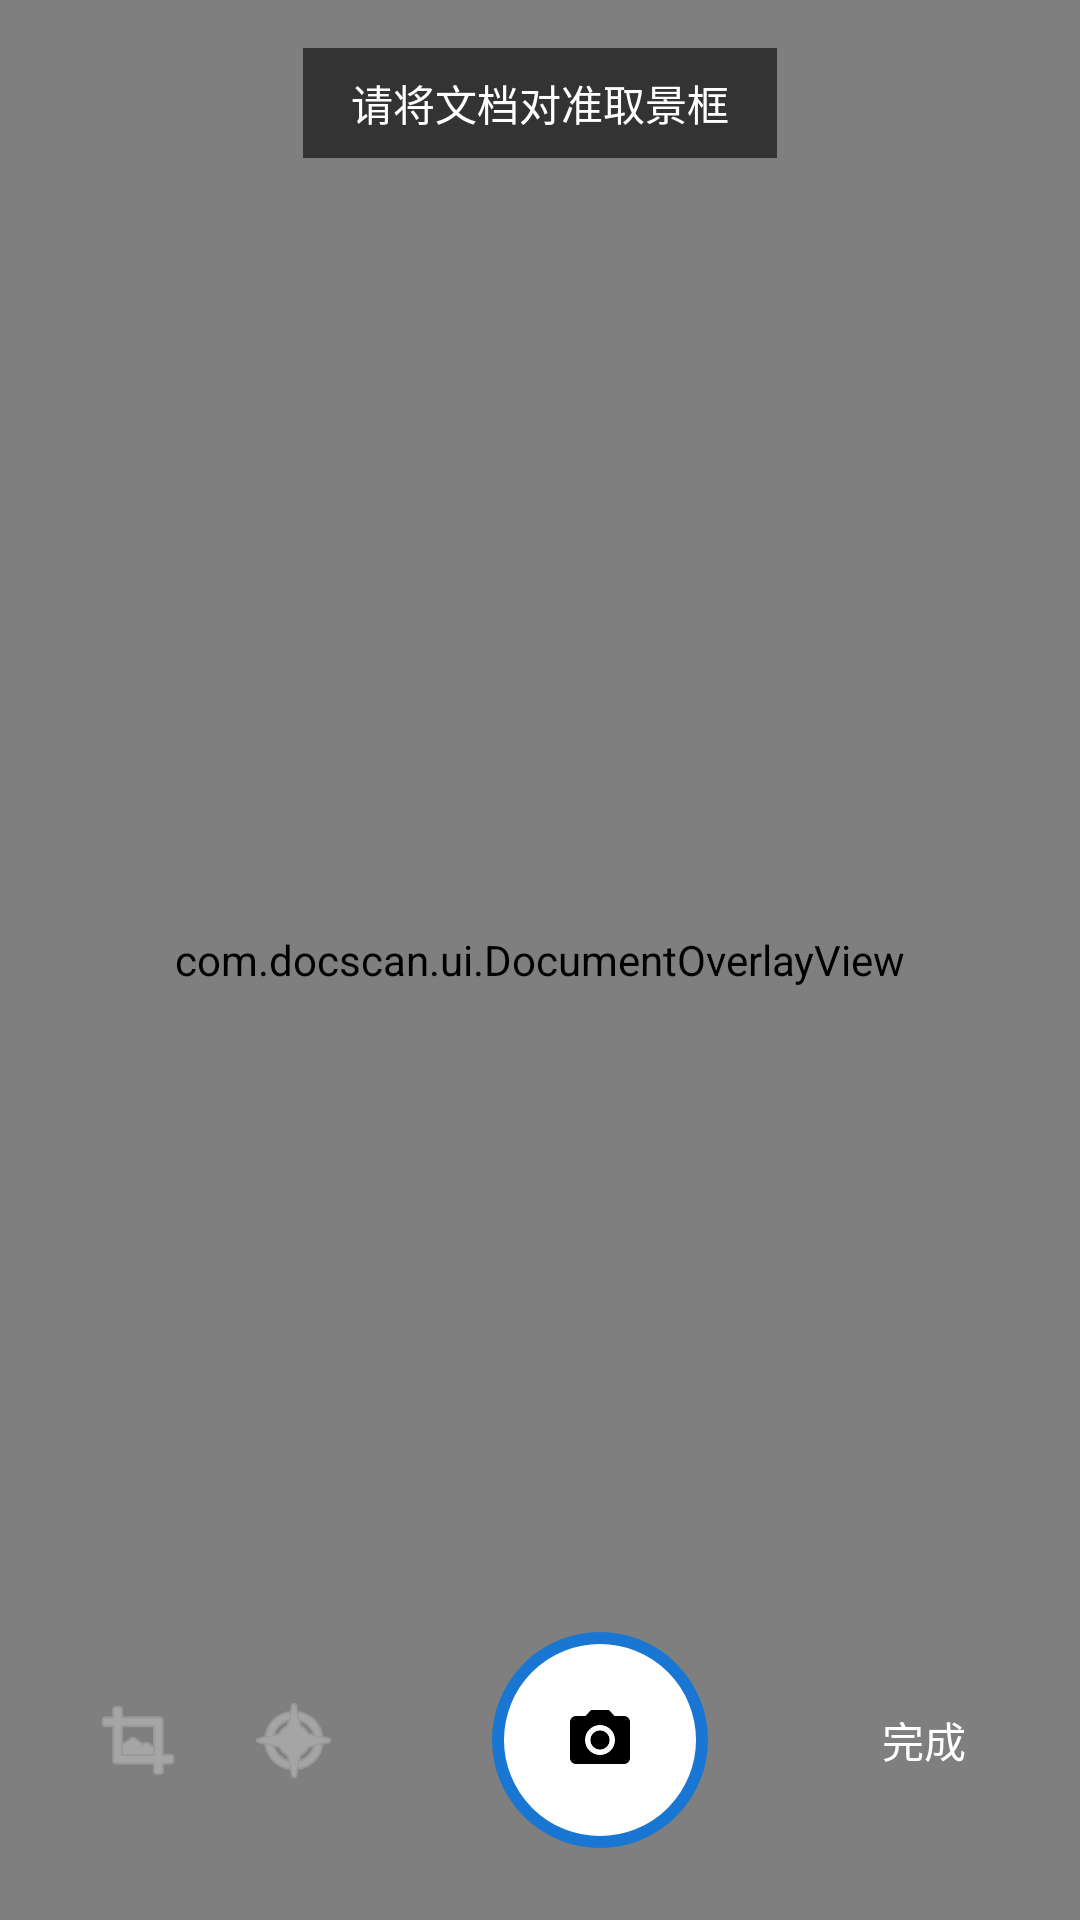

Icon click points for this 1080px×1920px phone screenshot, format [x,y]:
Focus: [293,1740]
拍摄: [600,1740]
